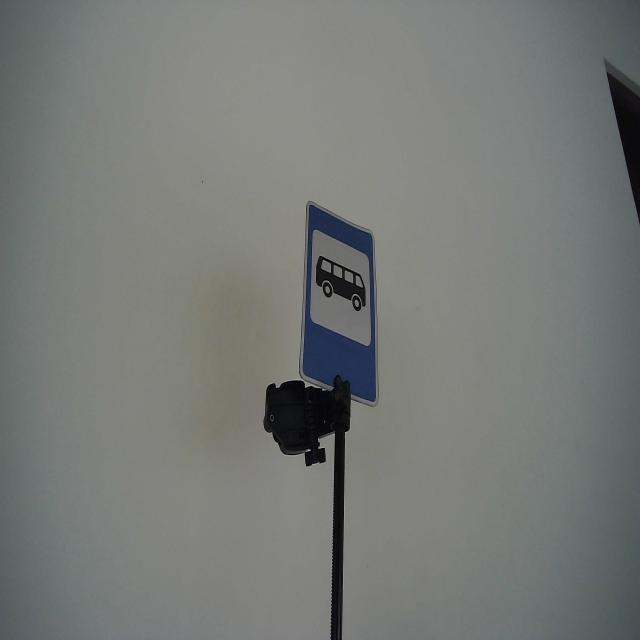bus_stop: (298, 197, 380, 410)
